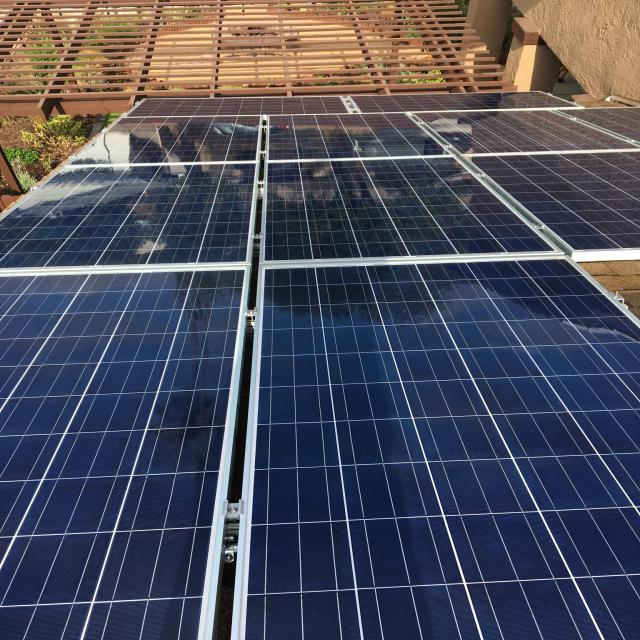no faulty: (250, 270, 640, 640), (0, 275, 227, 640), (269, 158, 500, 256), (21, 166, 237, 264), (500, 153, 640, 256), (429, 100, 640, 152), (117, 101, 260, 162), (275, 94, 415, 154)
